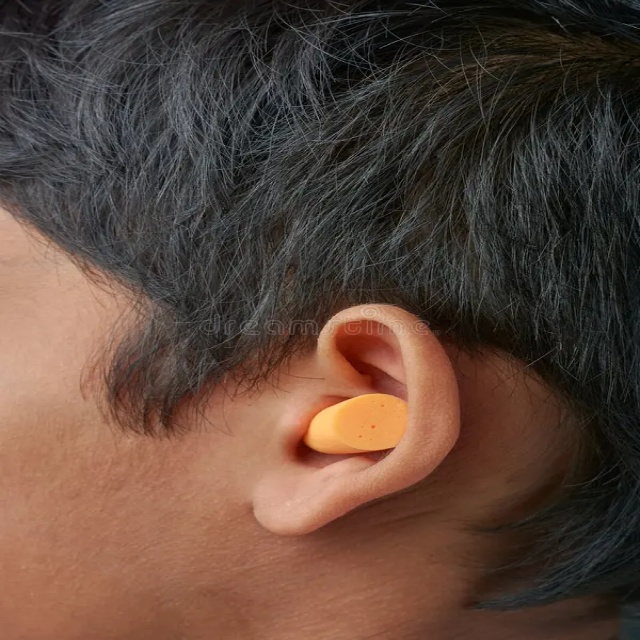Hearing_Protection: (326, 392, 411, 452)
